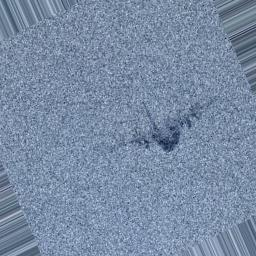Airplane: (112, 96, 218, 157)
